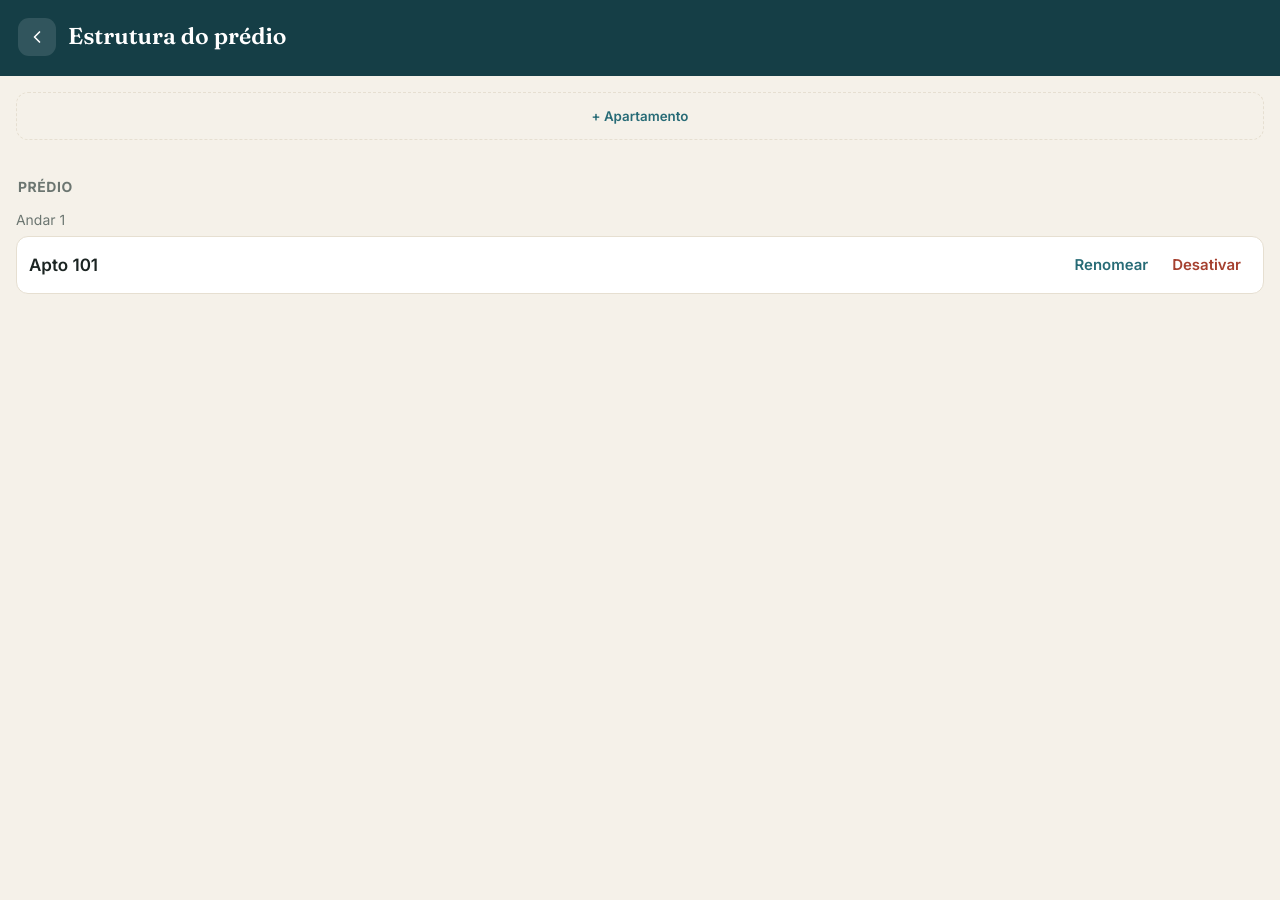
Test case: BuildingStructureScreen › shows the conflict message when the name already exists
Click the button "+ Apartamento". click: (640, 116)
box: [16,92,1264,140]
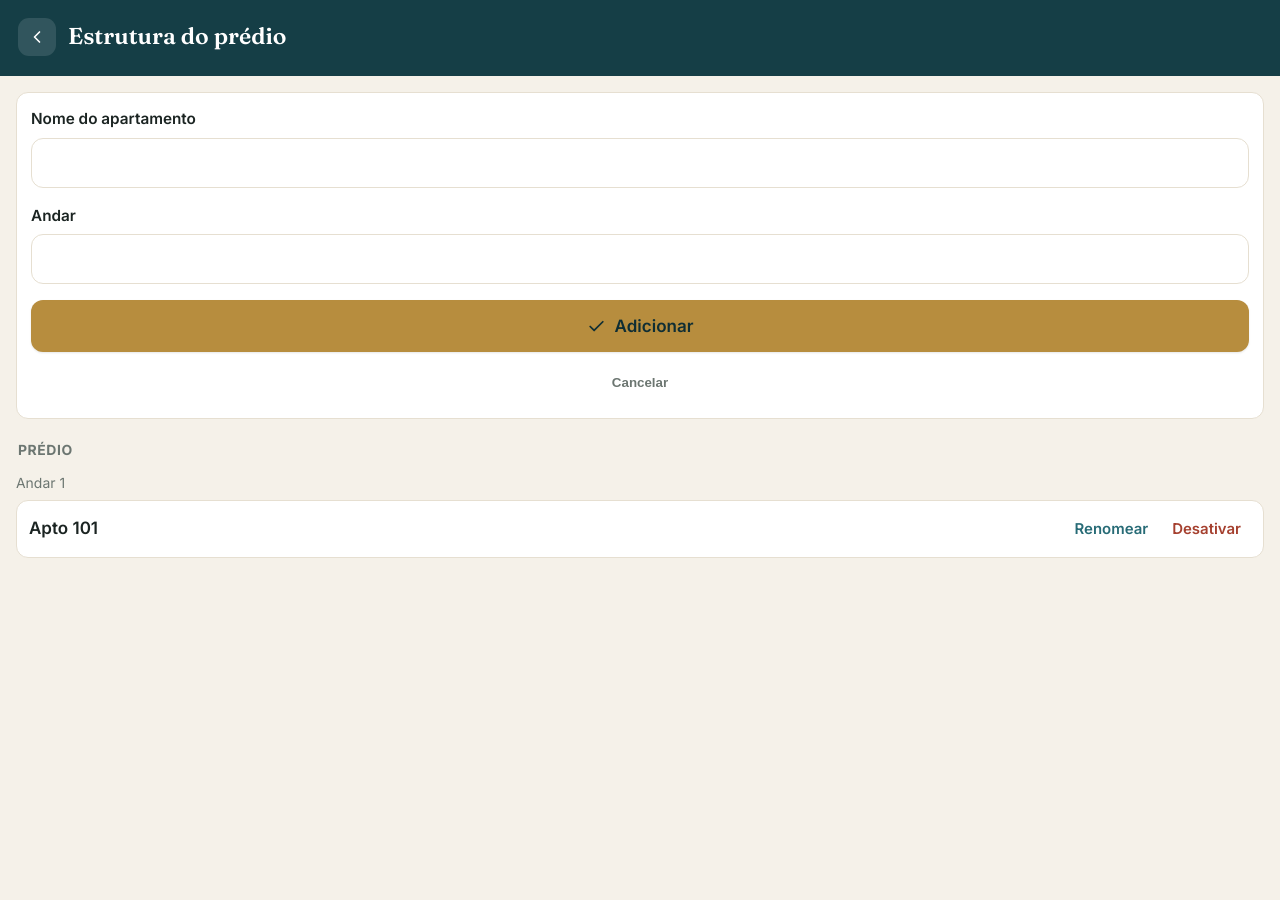
Type "Apto 101" into the field labelled "Nome do apartamento". click: (640, 163)
box: [31,138,1249,188]
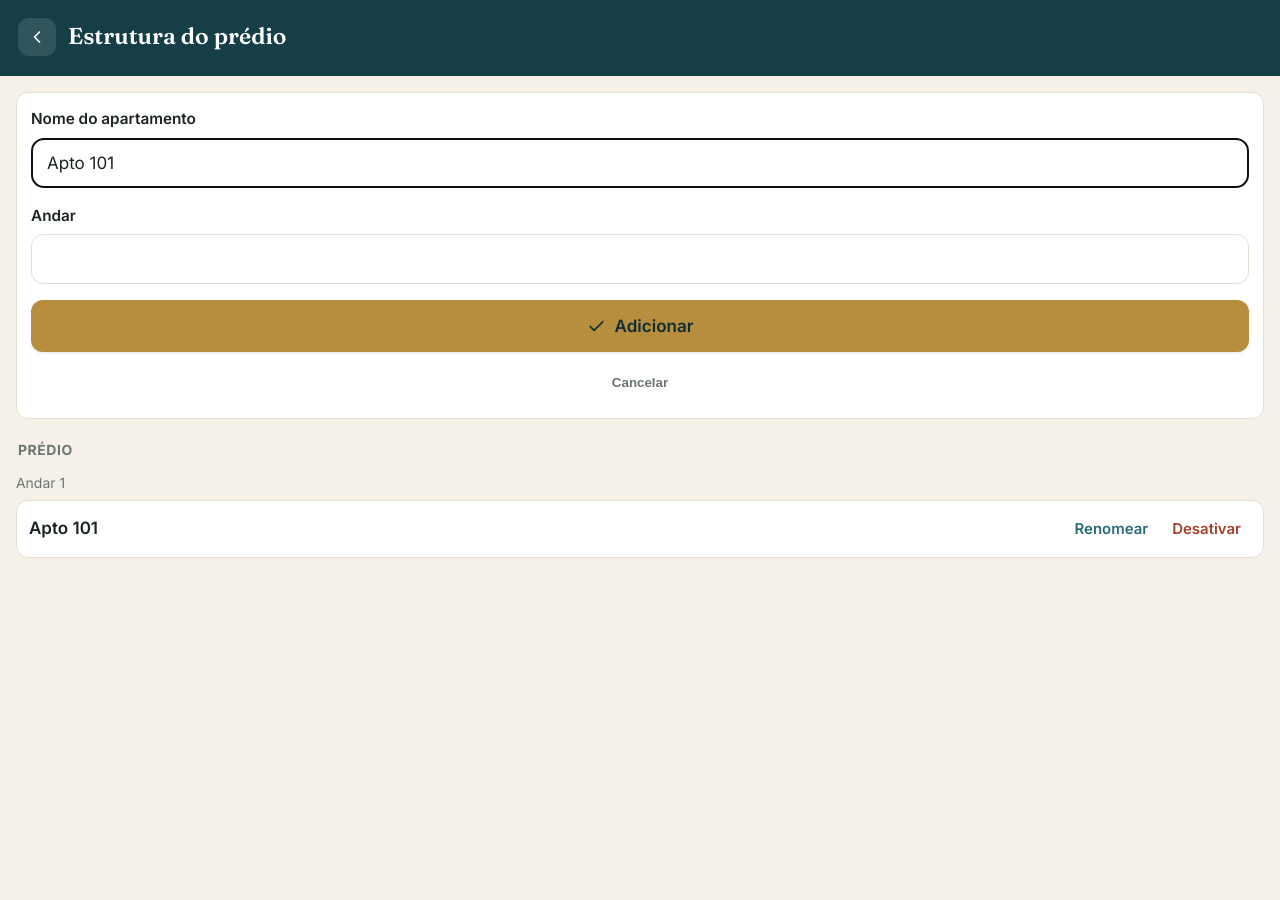
Click the button "Adicionar". click: (640, 326)
box: [31,300,1249,352]
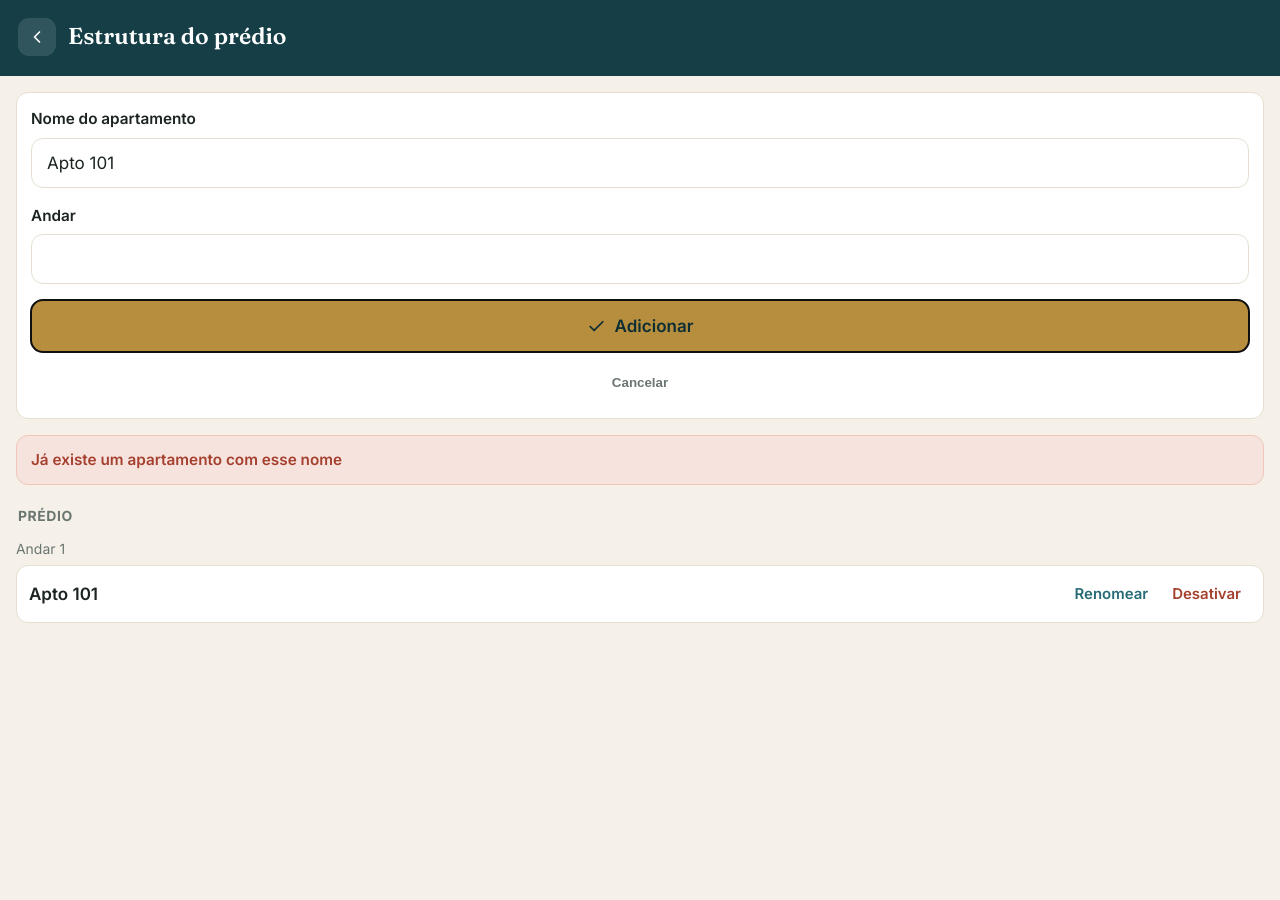
Expected: the message reads "Já existe um apartamento com esse nome", [31,450,342,469]
